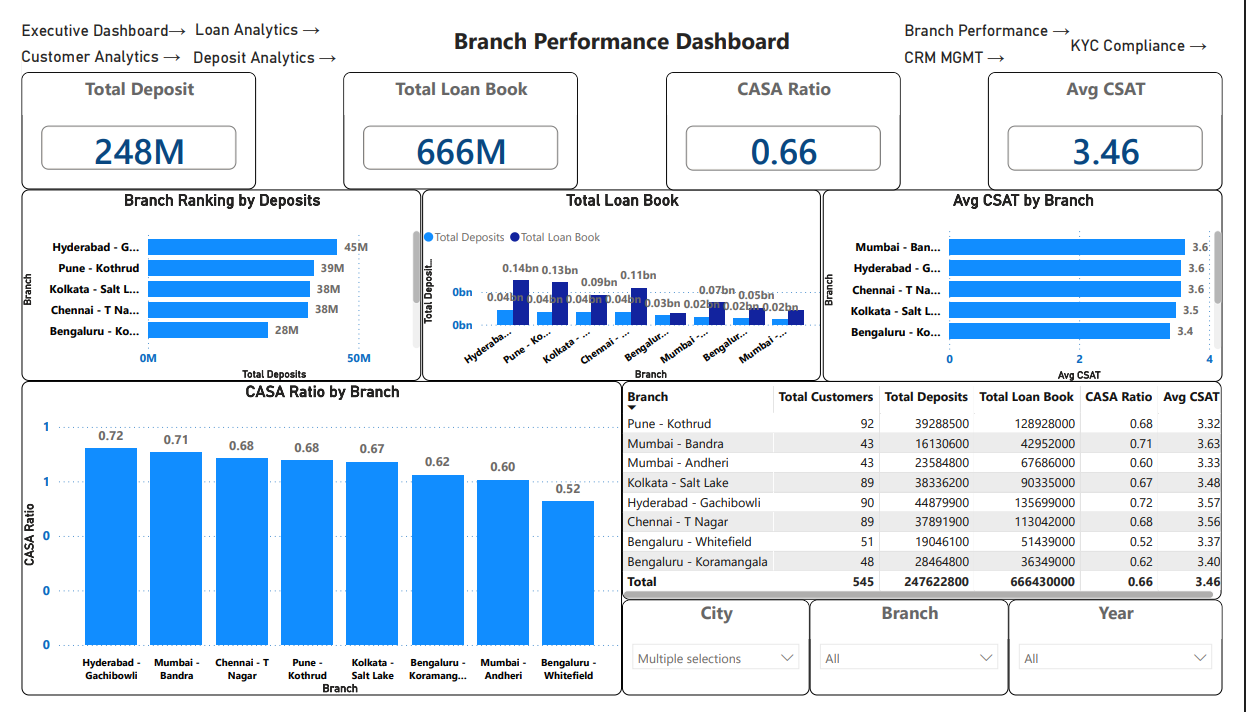

The dashboard page shown, as its layout file describes it:
{"tool":"powerbi","page":{"name":"Branch Performance","canvas":[1280,720],"ordinal":4},"visuals":[{"type":"textbox","box":[426.6,0,426.8,56.3],"z":0},{"type":"clusteredBarChart","title":"Branch Ranking by Deposits","fields":{"Category":["Customers.Branch"],"Y":["Mesures.Total Deposits"]},"box":[0,181,425.5,204.2],"z":1000},{"type":"clusteredColumnChart","title":"Total Loan Book","fields":{"Category":["Customers.Branch"],"Y":["Mesures.Total Deposits","Mesures.Total Loan Book"]},"box":[426.8,181,425.5,204.2],"z":2000},{"type":"barChart","fields":{"Category":["Customers.Branch"],"Y":["Mesures.Avg CSAT"]},"box":[853.5,181,426.8,205.4],"z":3000},{"type":"columnChart","fields":{"Category":["Customers.Branch"],"Y":["Mesures.CASA Ratio"]},"box":[0,385.2,639.5,335.1],"z":4000},{"type":"pivotTable","title":"Branch Performance Matrix","fields":{"Rows":["Customers.Branch"],"Values":["Mesures.Total Customers","Mesures.Total Deposits","Mesures.Total Loan Book","Mesures.CASA Ratio","Mesures.Avg CSAT"]},"box":[639.5,385.2,639.5,232.3],"z":5000},{"type":"cardVisual","title":"Total Deposits","fields":{"Data":["Mesures.Total Deposits"]},"box":[0,56.3,250,124.7],"z":6000},{"type":"slicer","title":"Branch","fields":{"Values":["Customers.Branch"]},"box":[840.1,617.5,211.6,102.7],"z":7000},{"type":"slicer","title":"City","fields":{"Values":["Customers.City"]},"box":[639.5,617.5,200.5,102.7],"z":8000},{"type":"slicer","title":"Year","fields":{"Values":["DimDate.Year"]},"box":[1051.6,617.5,228.7,102.7],"z":9000},{"type":"cardVisual","title":"Avg CSAT","fields":{"Data":["Mesures.Avg CSAT"]},"box":[1030,56.3,250,125.5],"z":10000},{"type":"cardVisual","title":"CASA Ratio","fields":{"Data":["Mesures.CASA Ratio"]},"box":[686.7,56.3,250,125.5],"z":11000},{"type":"cardVisual","title":"Total Loan Book","fields":{"Data":["Mesures.Total Loan Book"]},"box":[343.3,56.3,250,124.7],"z":12000},{"type":"actionButton","title":"Customer Analytics →","box":[0,27.7,177.3,29],"z":13000},{"type":"actionButton","title":"Loan Analytics →","box":[184.6,0,177.3,27.7],"z":14000},{"type":"actionButton","title":"Deposit Analytics →","box":[183.4,29,177.3,29],"z":15000},{"type":"actionButton","title":"Branch Performance →","box":[941,1.2,177.3,29],"z":16000},{"type":"actionButton","title":"CRM MGMT →","box":[941,29,160.5,29],"z":17000},{"type":"actionButton","title":"KYC Compliance →","box":[1118.4,15.7,155.6,29],"z":18000},{"type":"actionButton","title":"Executive Dashboard→","box":[0,1.2,177.3,29],"z":19000}]}

Visuals, with their boxes in screenshot pixels (x1, y1, x2, y2), scaled from the page's 1280x720 canvas onto the 1246x712 screenshot:
textbox: [left=415, top=0, right=831, bottom=56]
"Branch Ranking by Deposits" clusteredBarChart: [left=0, top=179, right=414, bottom=381]
"Total Loan Book" clusteredColumnChart: [left=415, top=179, right=830, bottom=381]
barChart - Customers.Branch x Mesures.Avg CSAT: [left=831, top=179, right=1245, bottom=382]
columnChart - Customers.Branch x Mesures.CASA Ratio: [left=0, top=381, right=623, bottom=711]
"Branch Performance Matrix" pivotTable: [left=623, top=381, right=1245, bottom=611]
"Total Deposits" cardVisual: [left=0, top=56, right=243, bottom=179]
"Branch" slicer: [left=818, top=611, right=1024, bottom=711]
"City" slicer: [left=623, top=611, right=818, bottom=711]
"Year" slicer: [left=1024, top=611, right=1245, bottom=711]
"Avg CSAT" cardVisual: [left=1003, top=56, right=1245, bottom=180]
"CASA Ratio" cardVisual: [left=668, top=56, right=912, bottom=180]
"Total Loan Book" cardVisual: [left=334, top=56, right=578, bottom=179]
"Customer Analytics →" actionButton: [left=0, top=27, right=173, bottom=56]
"Loan Analytics →" actionButton: [left=180, top=0, right=352, bottom=27]
"Deposit Analytics →" actionButton: [left=179, top=29, right=351, bottom=57]
"Branch Performance →" actionButton: [left=916, top=1, right=1089, bottom=30]
"CRM MGMT →" actionButton: [left=916, top=29, right=1072, bottom=57]
"KYC Compliance →" actionButton: [left=1089, top=16, right=1240, bottom=44]
"Executive Dashboard→" actionButton: [left=0, top=1, right=173, bottom=30]
